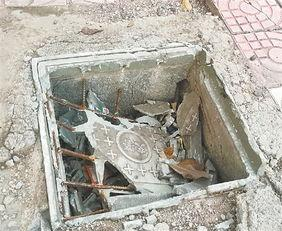wellcover: (32, 50, 268, 223)
